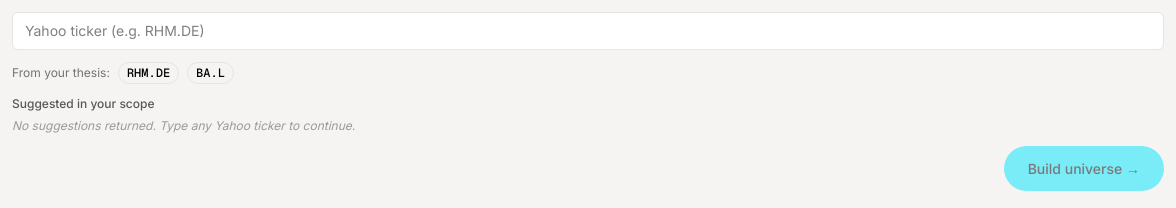
it: <AnchorPicker> › populates the input when a chip is clicked
Click the button "BA.L".
click(210, 73)  # box [187,62,234,84]
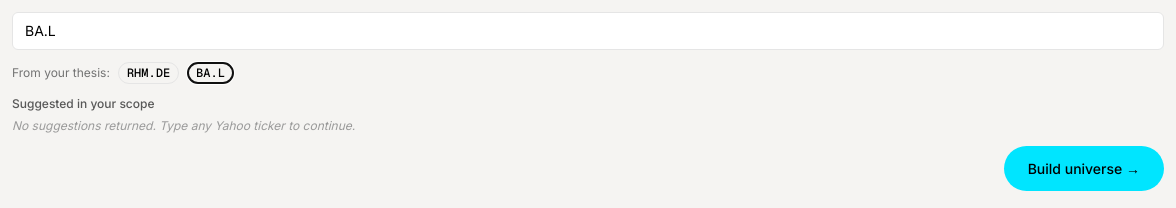
Expected: the field with placeholder "Yahoo ticker (e.g. RHM.DE)" holds "BA.L", [12,12,1164,50]
